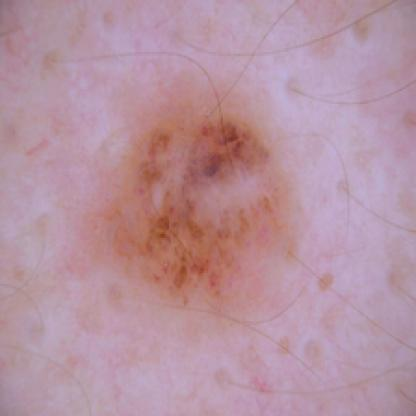benign: (98, 95, 314, 308)
